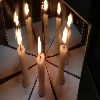fire: (38, 35, 43, 55)
